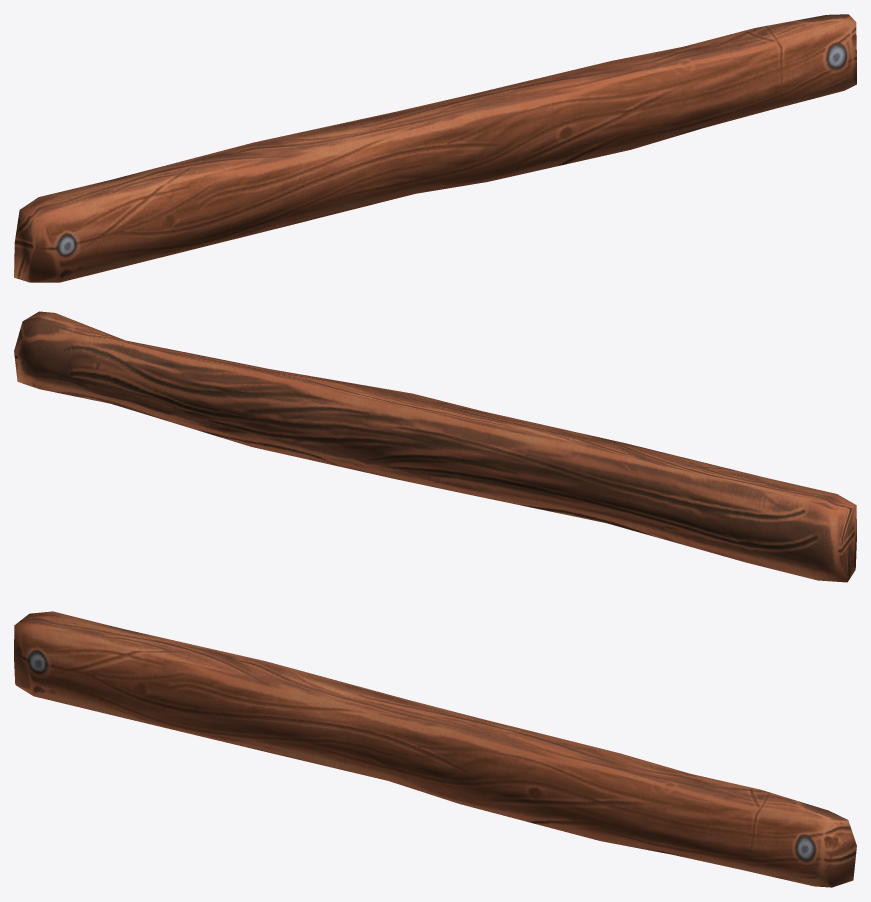
File: fence_plank2.obj
3 renders of one model, top to bottom at view 1: azimuth 30°, elevation 25°; view 2: azimuth 150°, elevation 25°; view 3: azimuth 330°, elevation 25°, orthographic.
Parts seen in each view (by area): view 1: STPlank2_Plano.017; view 2: STPlank2_Plano.017; view 3: STPlank2_Plano.017.
Boxes of the visible parts, box(x1,y1,x2,y2) form: STPlank2_Plano.017: box(14, 14, 856, 282); STPlank2_Plano.017: box(14, 311, 856, 582); STPlank2_Plano.017: box(14, 611, 856, 887).
Size of the model in its own units: 1.4 by 0.1302 by 0.0815.
